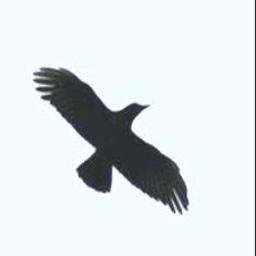Crow: (33, 67, 191, 215)
